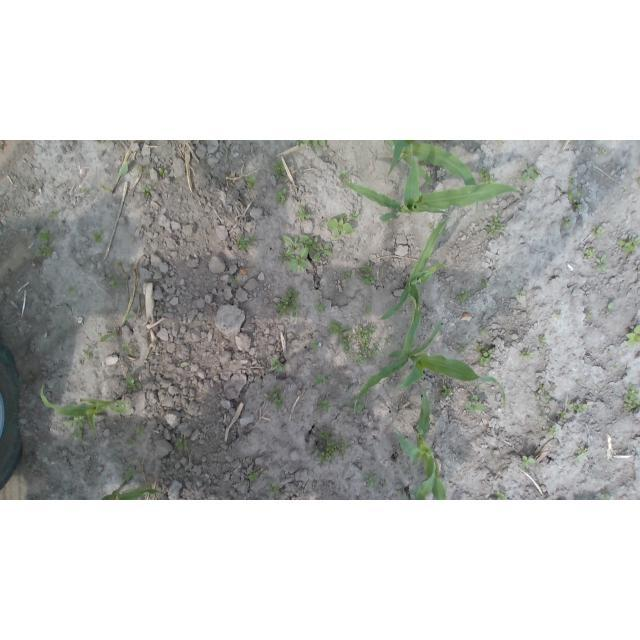Maize: (354, 319, 507, 409), (343, 144, 519, 220), (378, 215, 449, 357), (395, 384, 447, 501), (40, 384, 133, 435), (387, 140, 477, 188), (103, 469, 162, 500), (100, 160, 128, 192), (100, 332, 119, 342)
Weeds: (282, 235, 333, 272), (355, 324, 379, 365), (315, 438, 345, 462), (327, 213, 353, 237), (276, 288, 298, 316), (64, 416, 87, 440), (622, 382, 640, 412), (532, 378, 553, 403), (487, 213, 504, 235), (466, 395, 485, 414), (312, 371, 331, 389), (265, 388, 283, 406), (626, 325, 640, 348), (619, 236, 639, 252), (523, 164, 540, 182), (237, 234, 256, 250), (340, 336, 353, 357), (269, 161, 287, 176), (480, 167, 496, 183), (481, 347, 495, 365), (296, 140, 326, 148), (317, 398, 332, 414), (575, 446, 590, 461), (594, 254, 608, 270), (329, 320, 346, 333), (361, 266, 373, 284), (295, 207, 309, 222), (521, 456, 536, 470), (350, 398, 366, 411), (275, 188, 287, 204), (539, 406, 551, 422), (271, 358, 284, 372), (35, 246, 53, 256), (126, 373, 136, 389), (319, 426, 331, 439), (244, 175, 256, 187), (39, 231, 52, 242), (442, 386, 453, 398), (494, 490, 507, 500), (594, 492, 610, 500), (109, 276, 119, 288), (478, 325, 490, 335), (575, 400, 587, 410), (175, 438, 185, 449), (585, 248, 595, 259), (457, 293, 468, 303), (546, 425, 557, 435), (318, 300, 327, 312), (27, 372, 37, 382), (84, 347, 93, 358), (125, 469, 134, 480), (250, 469, 259, 480), (122, 343, 132, 352), (562, 219, 572, 228), (595, 227, 604, 237), (457, 344, 466, 354), (142, 186, 150, 197), (539, 334, 547, 345), (567, 187, 573, 201), (94, 232, 103, 241), (521, 349, 530, 358), (558, 411, 567, 420), (135, 426, 145, 434), (340, 170, 350, 178), (608, 299, 616, 309), (158, 168, 169, 175), (272, 482, 279, 493), (568, 178, 576, 187), (572, 203, 581, 211), (481, 278, 489, 287), (577, 189, 584, 199), (126, 438, 135, 445), (313, 342, 320, 351), (367, 477, 374, 486), (518, 290, 527, 297), (49, 211, 59, 217), (586, 308, 593, 316), (555, 309, 562, 316), (342, 273, 350, 279), (567, 401, 574, 407), (598, 149, 606, 154), (83, 187, 89, 193), (137, 165, 143, 171), (352, 212, 359, 217), (477, 342, 484, 347), (614, 362, 619, 368), (115, 263, 121, 267), (68, 288, 72, 293)
